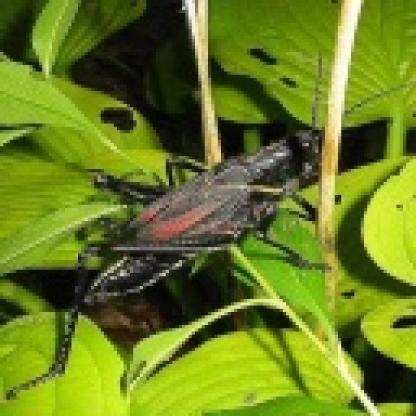grasshopper: (10, 45, 392, 401)
